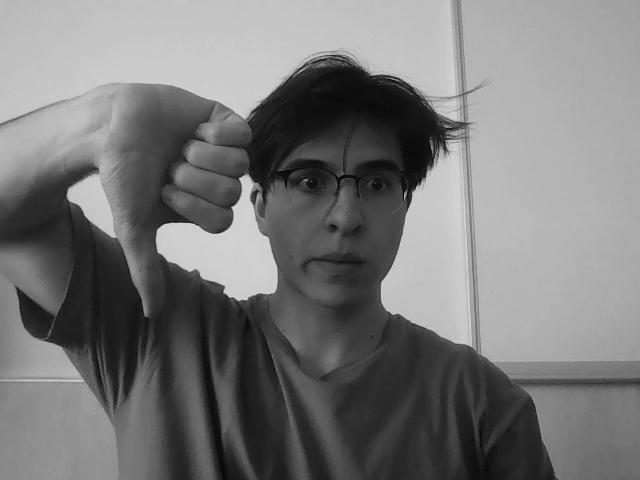bad: (81, 65, 255, 322)
